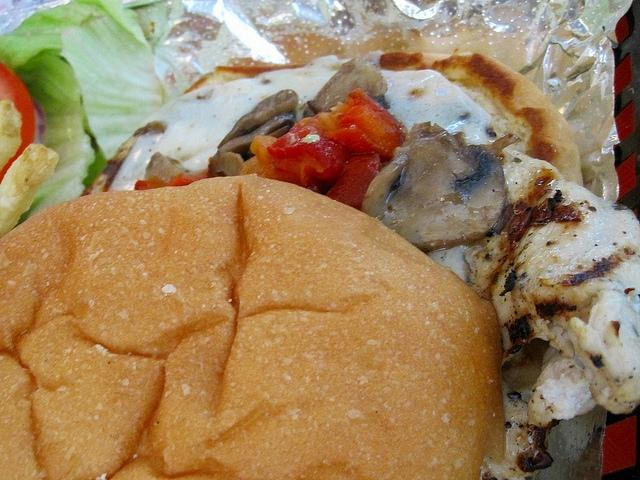lettuce: (59, 14, 162, 162), (12, 55, 96, 230), (0, 0, 109, 69)
mushroom: (363, 122, 507, 255), (206, 110, 298, 178), (218, 89, 300, 149), (307, 58, 387, 114), (502, 338, 550, 393), (144, 152, 187, 182)
